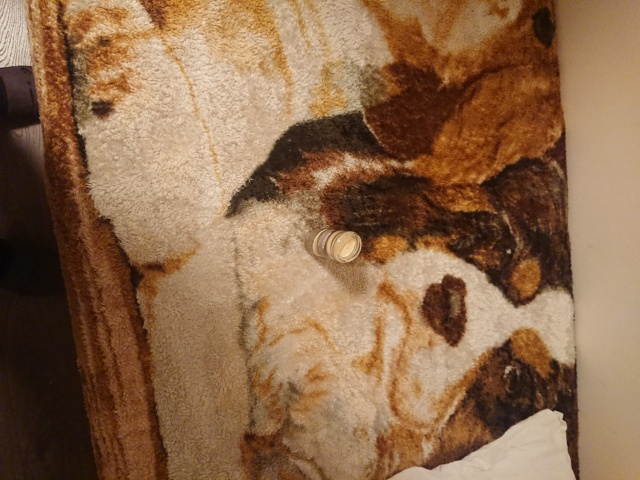Kotanyi Garlic Granules 70g: (303, 225, 363, 266)
